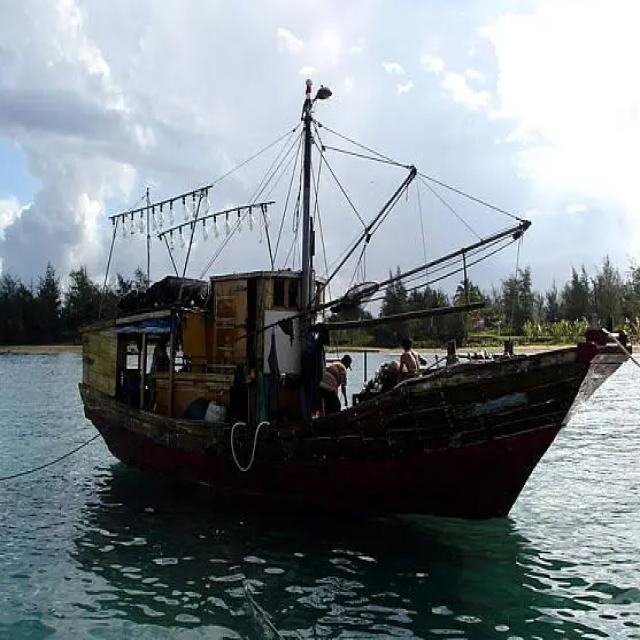fishing boat: (63, 79, 632, 509)
